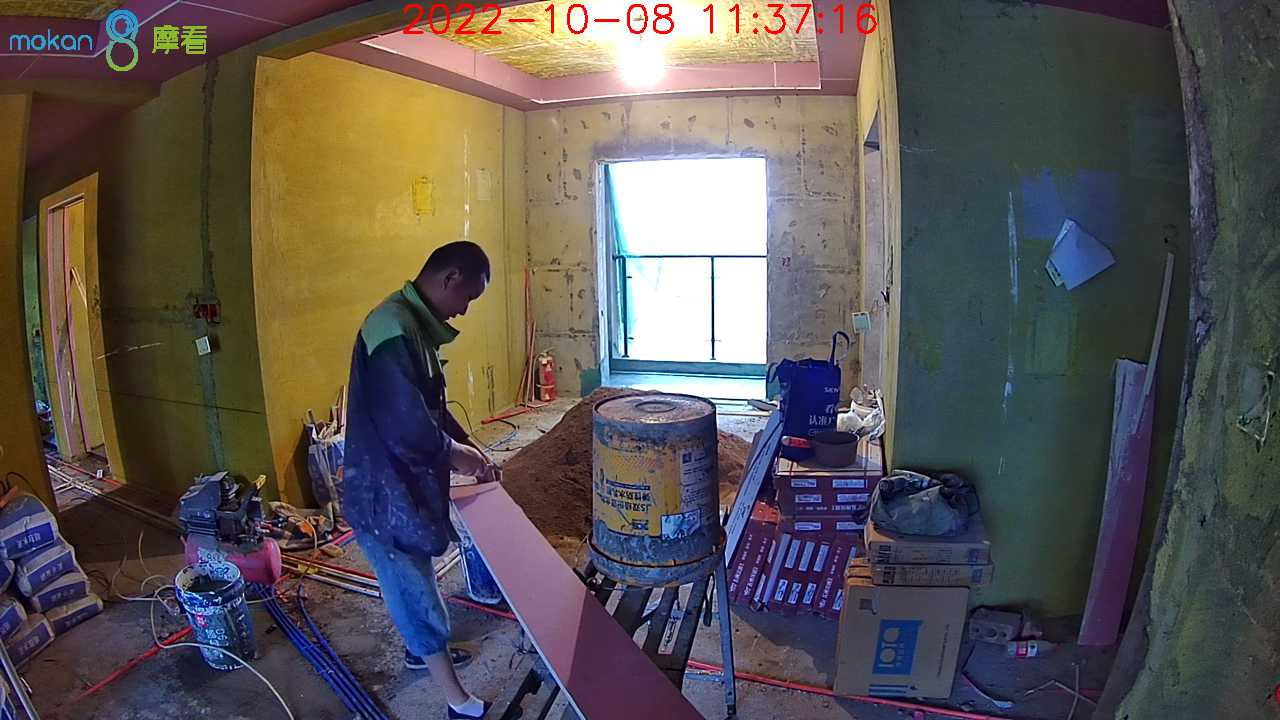people: (349, 241, 491, 720)
window: (609, 158, 768, 368)
